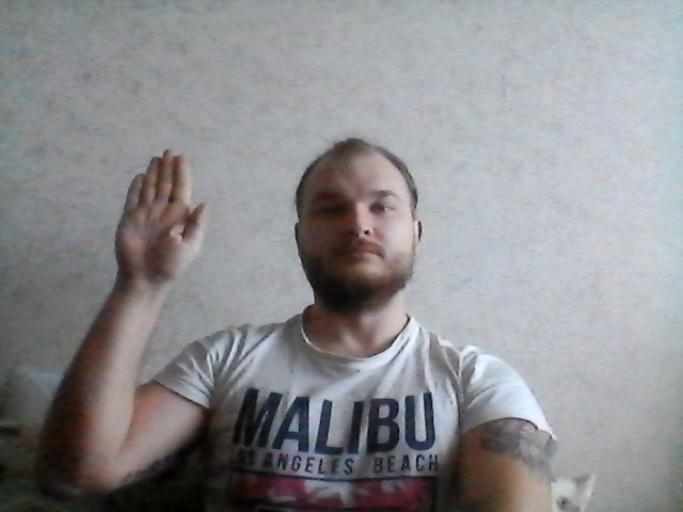stop: (112, 146, 209, 284)
